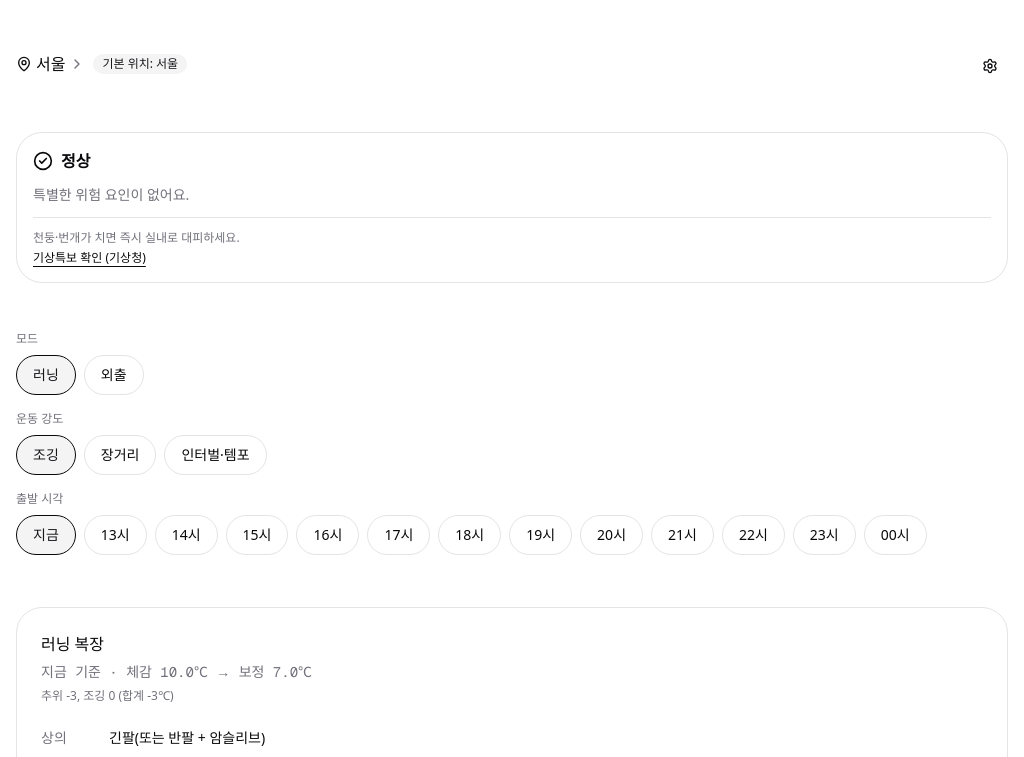
HomeScreen: 칩 변경은 재조회 없이 다시 계산한다 › 운동 강도 칩을 바꾸면 보정 내역이 바뀐다
The image size is (1024, 757).
Check: the text "러닝 복장" is shown, box left=41, top=633, right=104, bottom=655
Check: the text "추위 -3, 조깅 0 (합계 -3℃)" is shown, box left=41, top=687, right=174, bottom=704
Click the button "인터벌·템포". click: (216, 455)
box: left=164, top=435, right=267, bottom=475
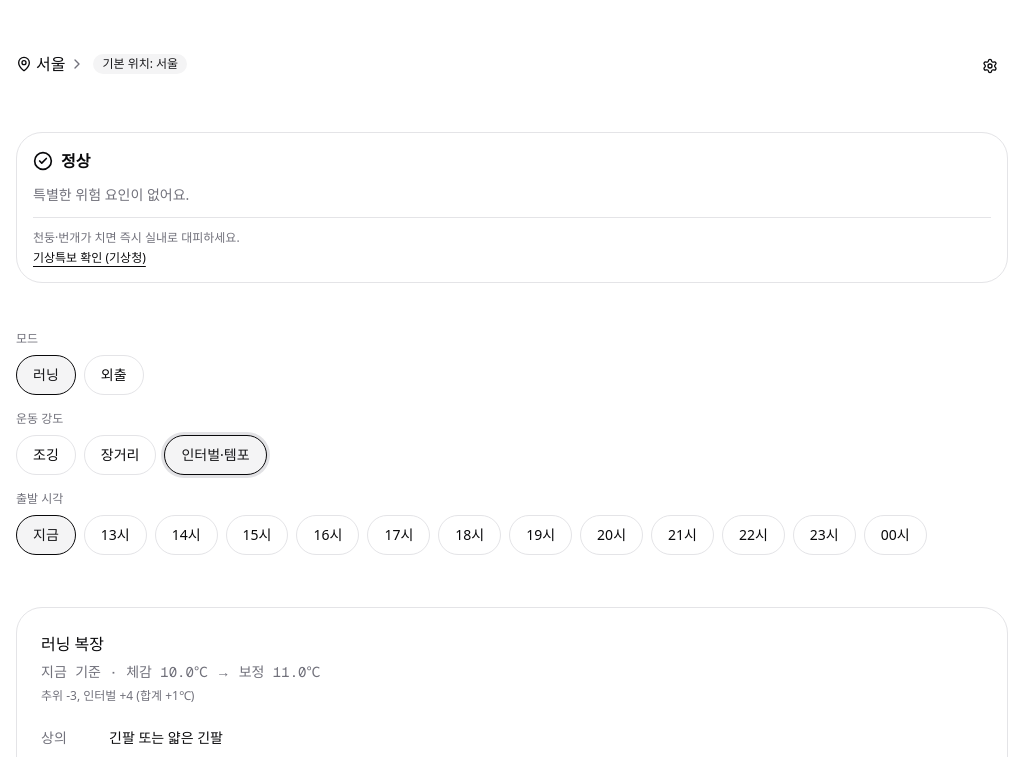
Check: the text "추위 -3, 인터벌 +4 (합계 +1℃)" is shown, box left=41, top=687, right=194, bottom=704
